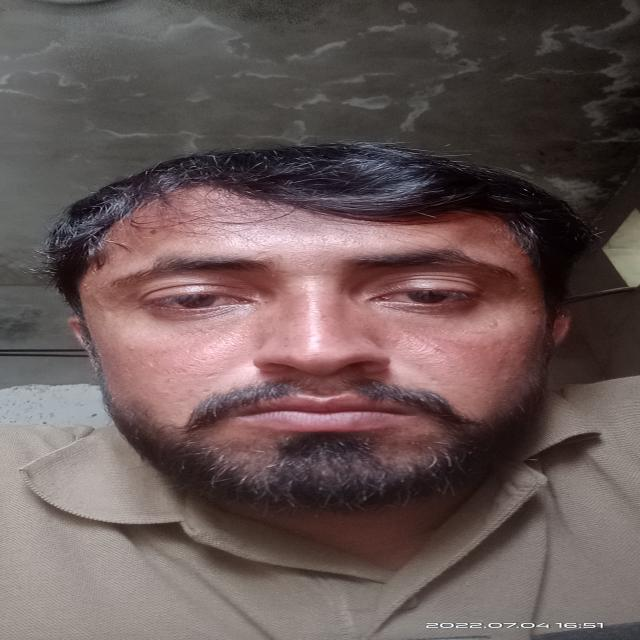acne: (528, 306, 542, 317), (80, 282, 90, 288), (194, 240, 208, 244), (520, 286, 529, 292), (498, 358, 506, 364)
pores: (176, 328, 251, 374), (385, 329, 455, 369)
wrinkle: (292, 273, 332, 278)
